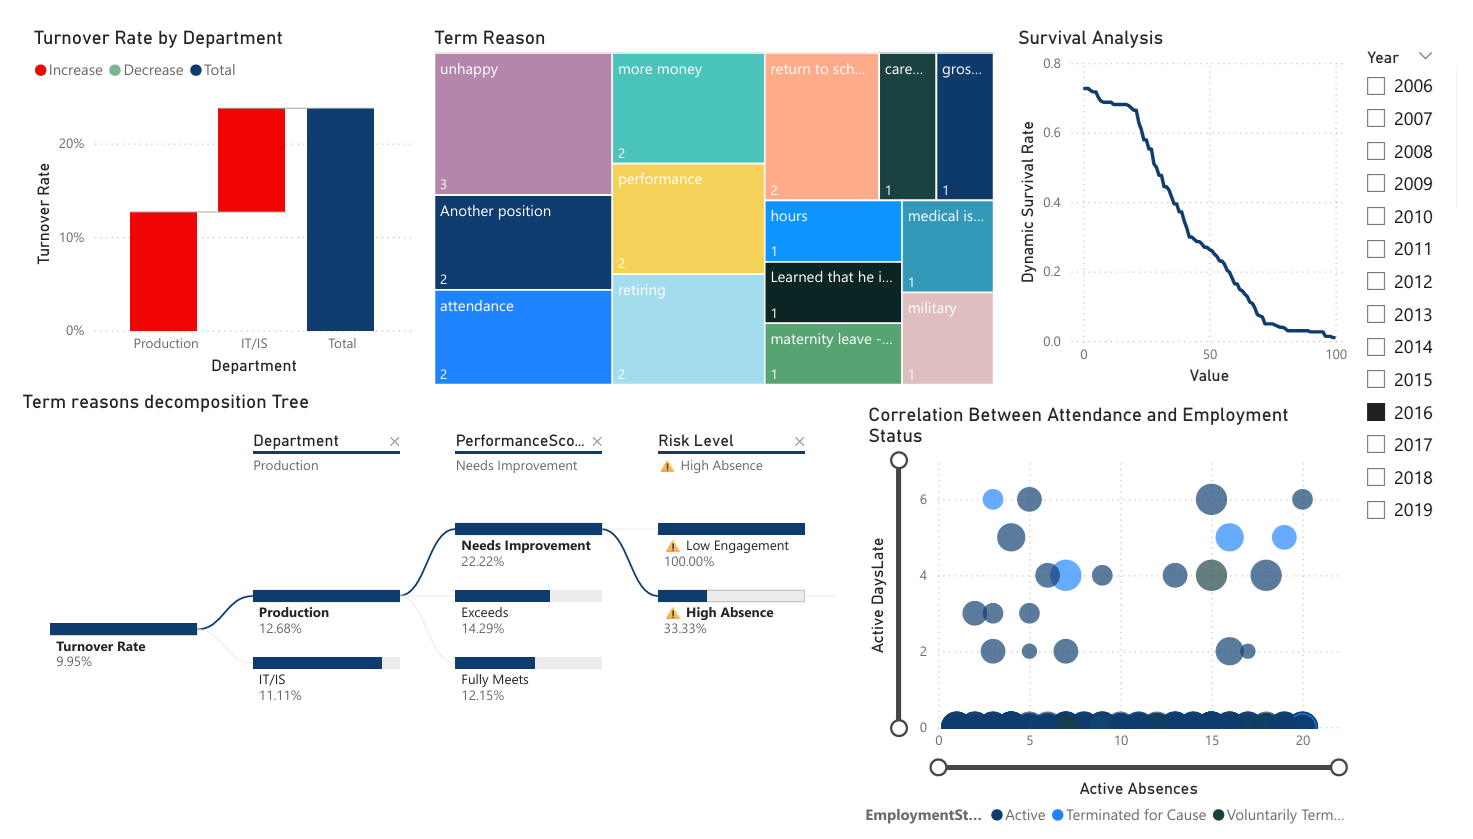

This screenshot's page, from the dashboard's own definition file:
{"tool":"powerbi","page":{"name":"Turnover & Retention","canvas":[1280,720],"ordinal":3},"visuals":[{"type":"waterfallChart","title":"Turnover Rate by Department","fields":{"Category":["HRDataset_v14.Department"],"Y":["KPI.Turnover Rate"]},"box":[9.7,0,347.2,314.2],"z":0},{"type":"treemap","title":"Term Reason","fields":{"Values":["KPI.9Terminated In Period"],"Group":["HRDataset_v14.TermReason"]},"box":[366.4,0,506.3,323.8],"z":1000},{"type":"scatterChart","title":"Correlation Between Attendance and Employment Status","fields":{"X":["KPI.14Active Absences"],"Series":["HRDataset_v14.EmploymentStatus"],"Size":["Avg(HRDataset_v14.EmpSatisfaction)"],"Y":["KPI.14Active DaysLate"],"Category":["HRDataset_v14.Employee_Name"]},"box":[752,334.8,435,385.6],"z":2000},{"type":"decompositionTreeVisual","title":"Term reasons decomposition Tree","fields":{"Analyze":["KPI.Turnover Rate"],"ExplainBy":["HRDataset_v14.Department","HRDataset_v14.PerformanceScore","HRDataset_v14.Risk Level","HRDataset_v14.MaritalDesc"]},"box":[0,323.8,732.8,384.2],"z":3000},{"type":"lineChart","title":"Survival Analysis","fields":{"Category":["Month Series.Value"],"Y":["Month Series.Dynamic Survival Rate"]},"box":[885.1,0,301.9,323.8],"z":4000},{"type":"slicer","fields":{"Values":["DateTable.Year"]},"box":[1187,15.1,83.7,440.5],"z":5000}]}

Visuals, with their boxes in screenshot pixels (x1, y1, x2, y2), scaled from the page's 1280x720 canvas onto the 1473x839 screenshot:
"Turnover Rate by Department" waterfallChart: region(11, 0, 411, 366)
"Term Reason" treemap: region(422, 0, 1004, 377)
"Correlation Between Attendance and Employment Status" scatterChart: region(865, 390, 1366, 838)
"Term reasons decomposition Tree" decompositionTreeVisual: region(0, 377, 843, 825)
"Survival Analysis" lineChart: region(1019, 0, 1366, 377)
slicer - DateTable.Year: region(1366, 18, 1462, 531)
